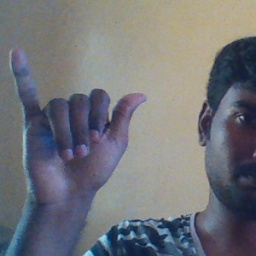J: (7, 46, 150, 195)
